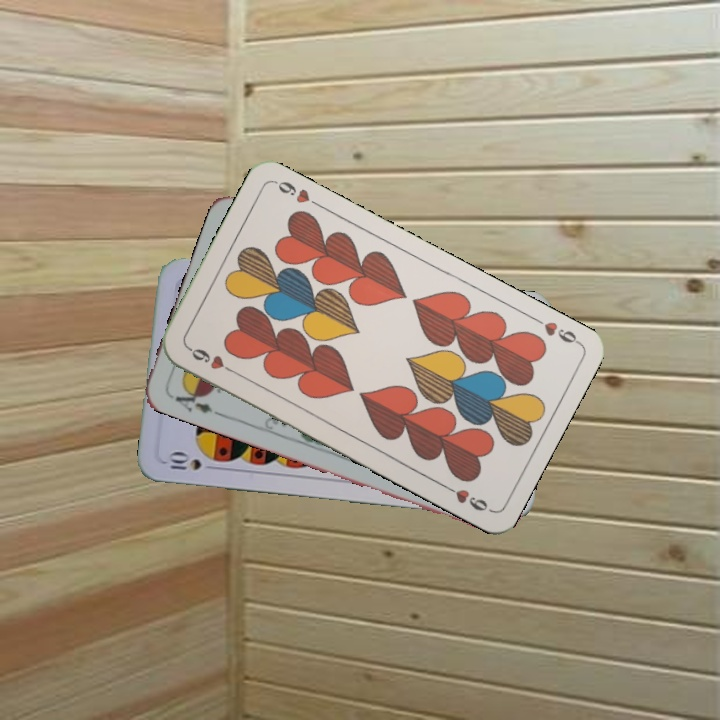EA: (171, 383, 215, 416)
H9: (528, 312, 582, 347), (183, 342, 238, 376)
S10: (161, 450, 220, 473)
